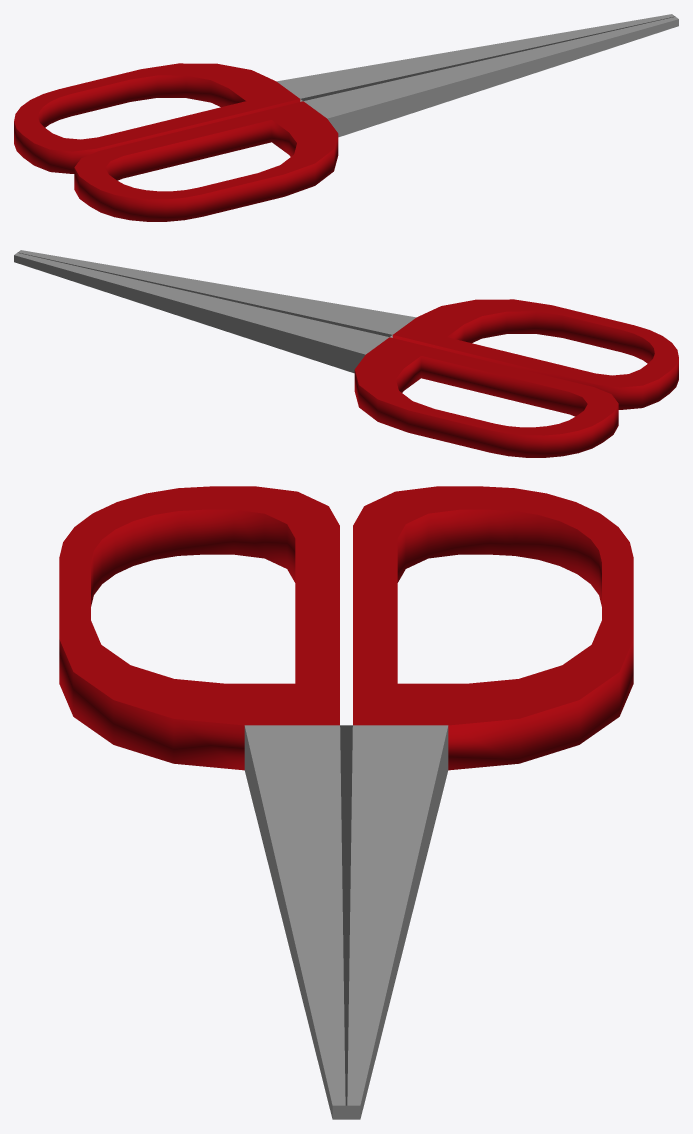
File: scissors.fbx
3 renders of one model, top to bottom at view 1: azimuth 30°, elevation 25°; view 2: azimuth 150°, elevation 25°; view 3: azimuth 270°, elevation 25°, orthographic. The views are drawn at different scales.
Visible parts, largest first — view 1: Cube; view 2: Cube; view 3: Cube.
Part boxes in pixels (x1=…): Cube: x1=14, y1=14, x2=678, y2=221; Cube: x1=14, y1=250, x2=678, y2=457; Cube: x1=59, y1=486, x2=633, y2=1119.
Size of the model in its own units: 918 by 31.84 by 369.
